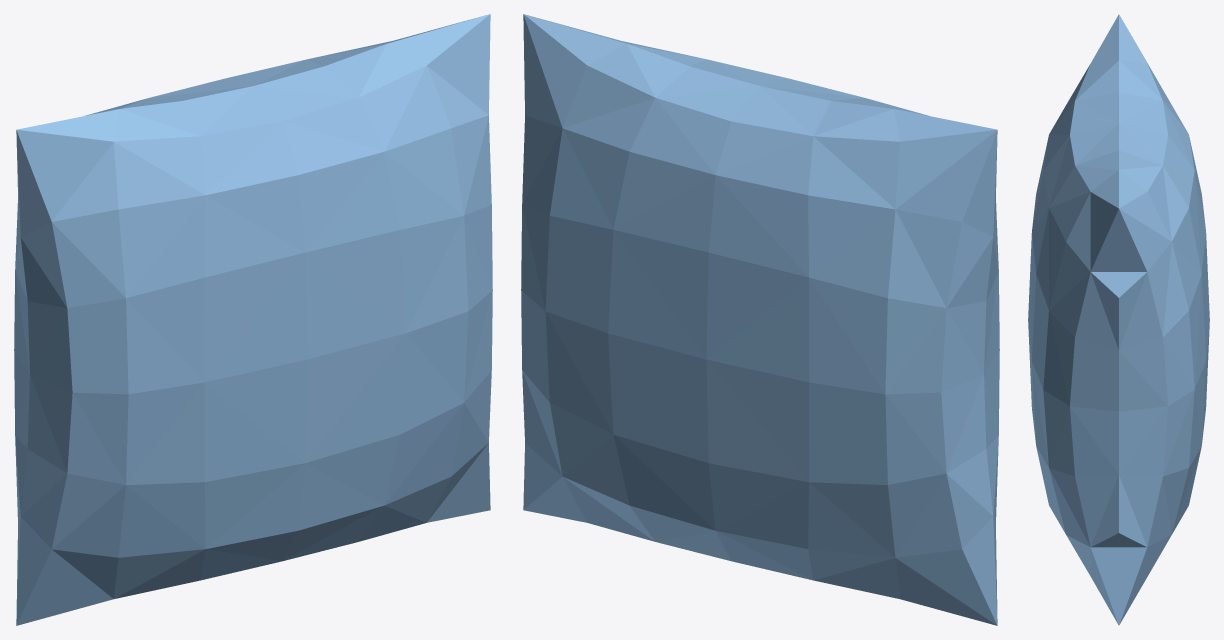
3 views of the same model, side by side, from view 1: azimuth 30°, elevation 25°; view 2: azimuth 150°, elevation 25°; view 3: azimuth 270°, elevation 25° (orthographic). The views are drawn at different scales.
Parts seen in each view (by area): view 1: Cushion; view 2: Cushion; view 3: Cushion.
Boxes of the visible parts, bbox=[...] form: Cushion: bbox=[14, 14, 492, 625]; Cushion: bbox=[521, 14, 999, 625]; Cushion: bbox=[1028, 14, 1209, 625].
Size of the model in its own units: 79.84 by 79.84 by 31.52.
1 material, 1 textured.
